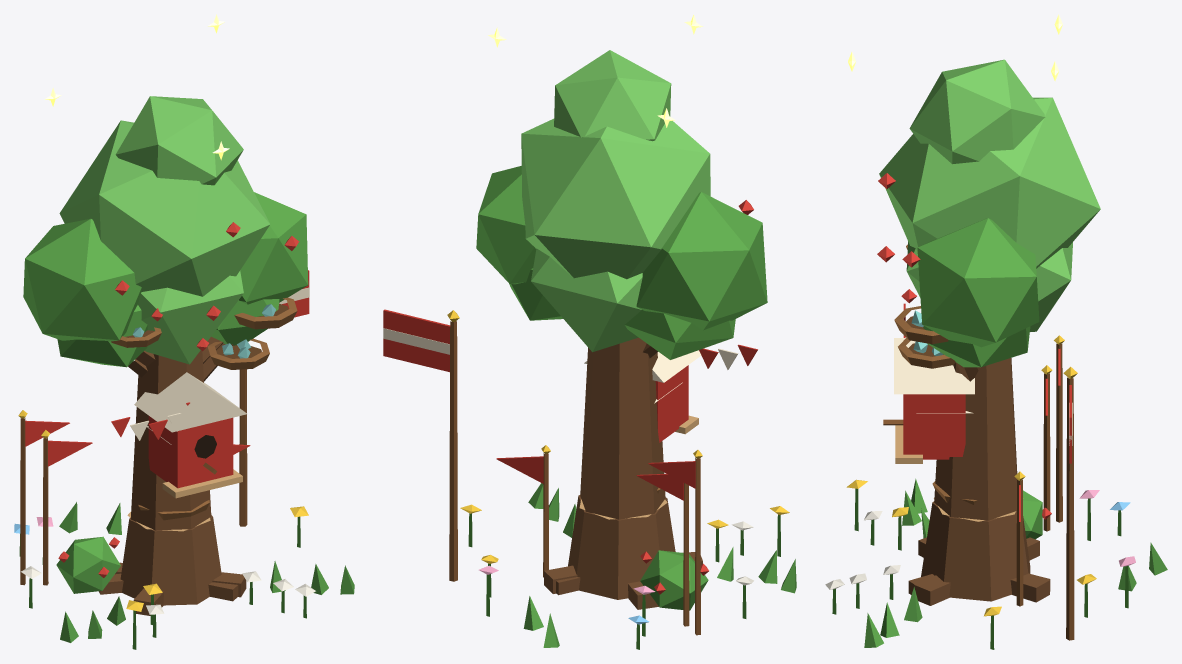
File: robin-nest-grove.glb
The picture shows the model from 3 angles, left to right: view 1: azimuth 30°, elevation 25°; view 2: azimuth 150°, elevation 25°; view 3: azimuth 270°, elevation 25°; orthographic projection. The views are drawn at different scales.
Visible parts, largest first — view 1: lv3, lv2, lv1; view 2: lv3, lv2, lv1; view 3: lv3, lv1, lv2.
Boxes of the visible parts, x1,y1,x2,y2 form: lv3: [14, 14, 354, 649]; lv2: [36, 270, 328, 638]; lv1: [56, 444, 285, 625]; lv3: [383, 14, 796, 649]; lv2: [481, 248, 777, 636]; lv1: [496, 445, 733, 610]; lv3: [825, 14, 1167, 649]; lv1: [883, 471, 1051, 622]; lv2: [849, 241, 1136, 637].
Size of the model in its own units: 1.7 by 2.69 by 1.49.
